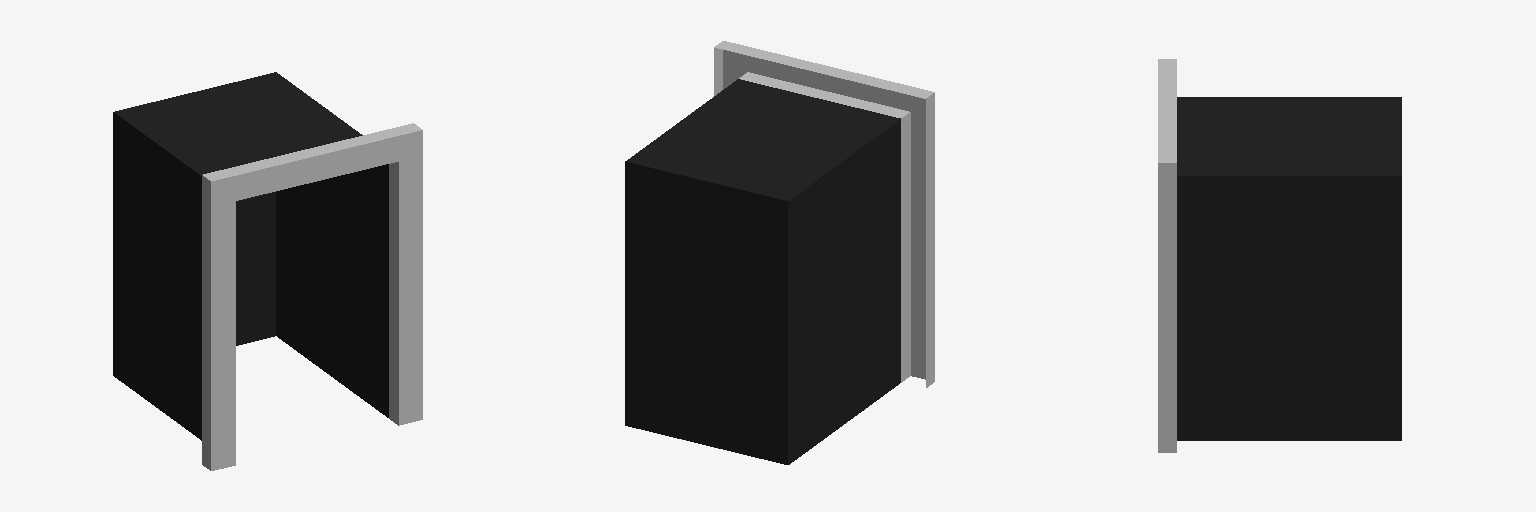
3 renders of one model, left to right at view 1: azimuth 30°, elevation 25°; view 2: azimuth 150°, elevation 25°; view 3: azimuth 270°, elevation 25°, orthographic.
Visible parts, largest first — view 1: m_dun2608_01_00c; view 2: m_dun2608_01_00c; view 3: m_dun2608_01_00c.
Boxes of the visible parts, box(x1,y1,x2,y2) form: m_dun2608_01_00c: box(113, 72, 422, 470); m_dun2608_01_00c: box(625, 41, 934, 464); m_dun2608_01_00c: box(1158, 59, 1401, 452).
Bounding box in the file's own units: 26 × 34 × 26.
Materials: 2 (1 with a texture image).